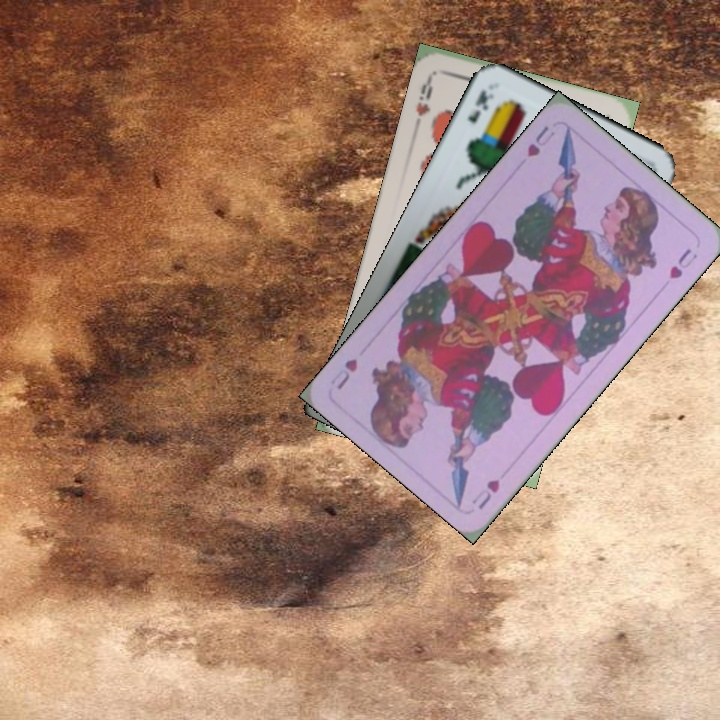EK: (463, 85, 497, 126)
H9: (412, 71, 436, 119)
HU: (467, 475, 503, 512), (523, 122, 558, 160)
